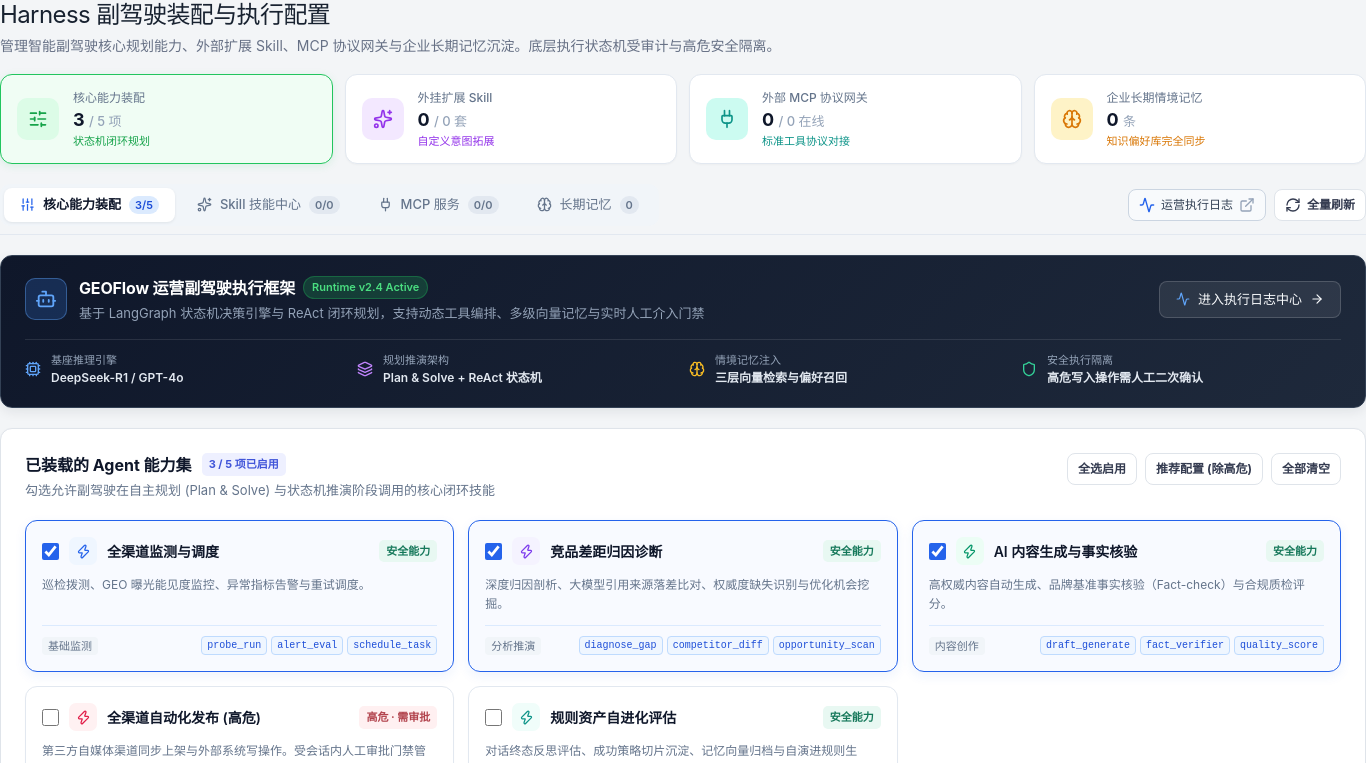
Test case: HarnessConfigView Component › switches to "Skill 技能中心" tab and displays custom skills and actions
Click the tab "Skill 技能中心 0/0".
click(268, 205)  # box top-left (181, 188), bottom-right (356, 222)
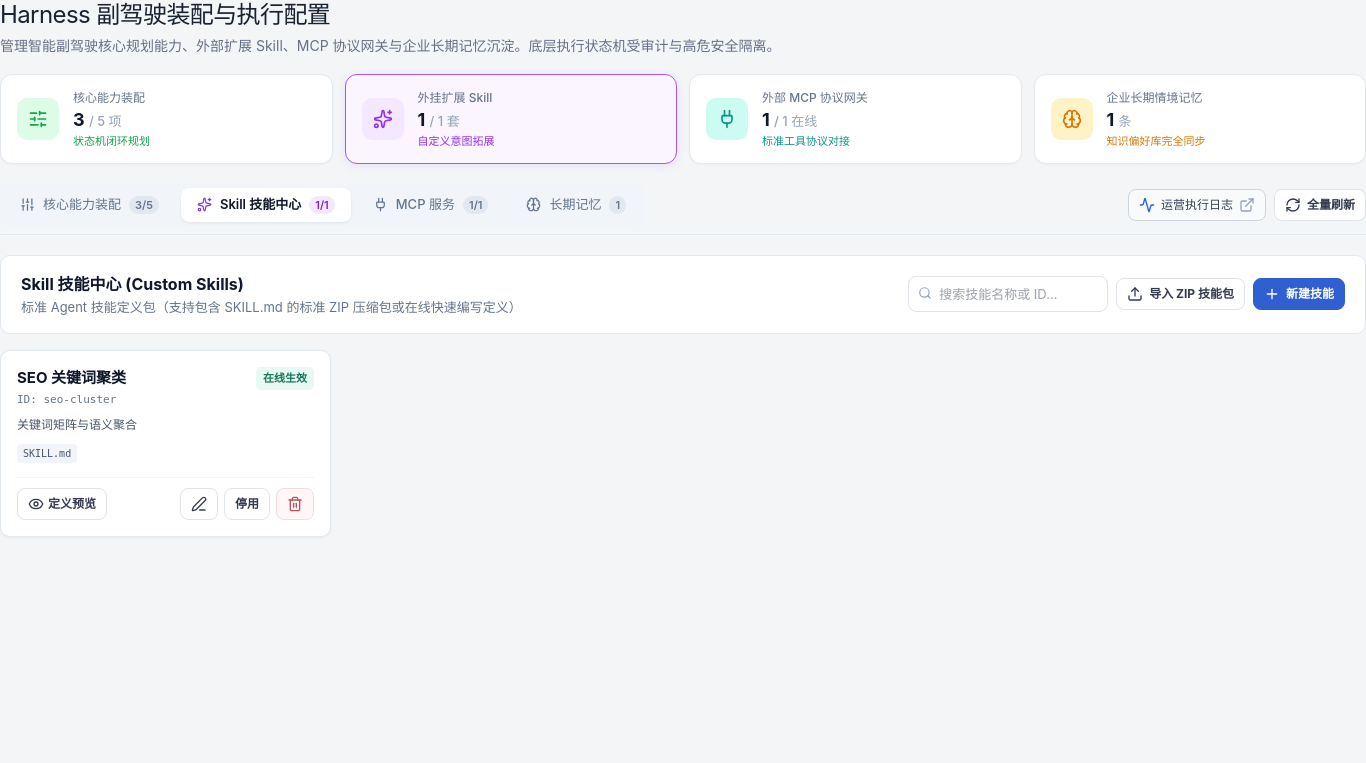
Result: the heading "Skill 技能中心 (Custom Skills)" is shown at top-left (21, 274), bottom-right (244, 294)
Result: the button "导入 ZIP 技能包" is shown at top-left (1116, 278), bottom-right (1245, 310)
Result: the button "新建技能" is shown at top-left (1253, 278), bottom-right (1345, 310)
